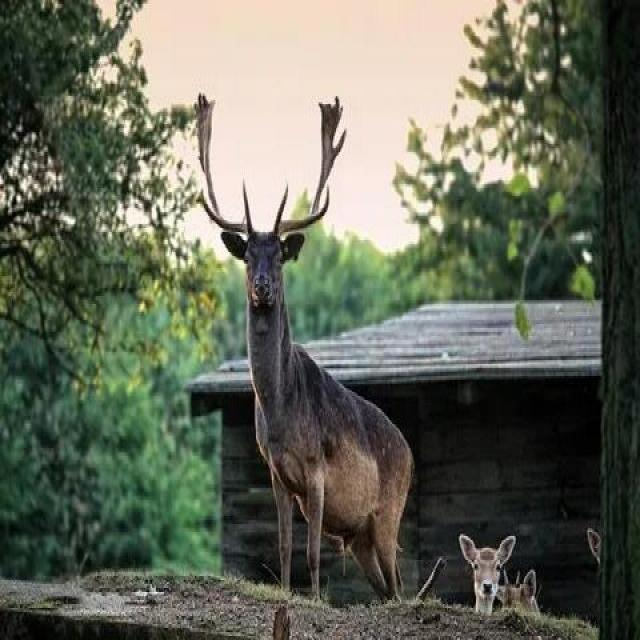deer: (142, 109, 449, 622)
